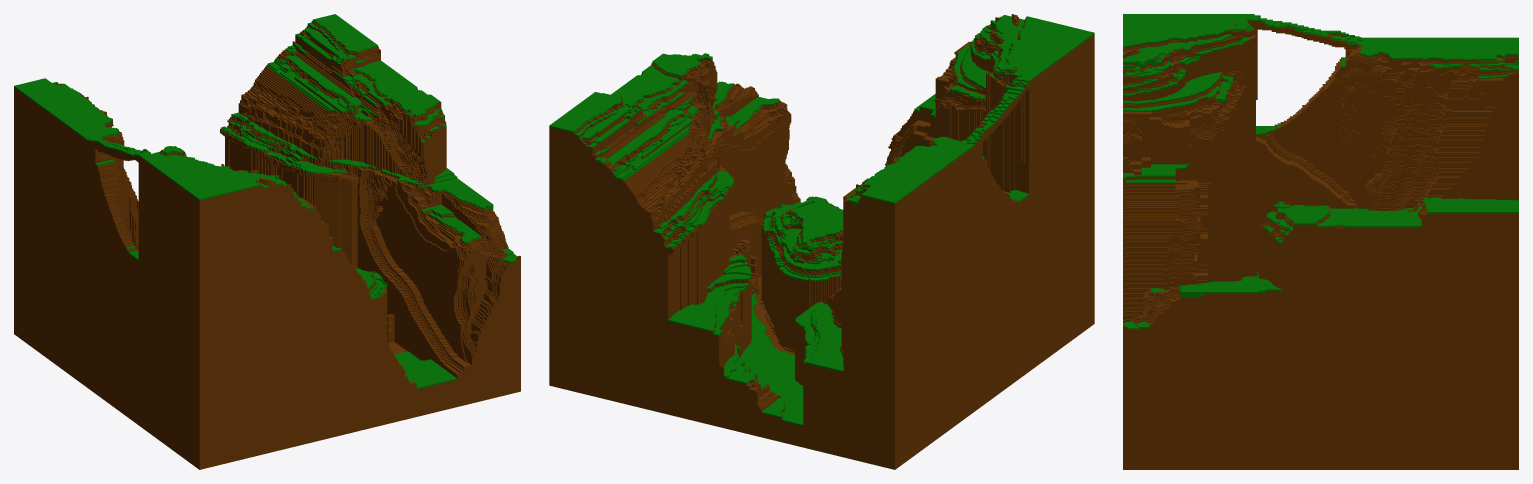
File: map2.glb
3 renders of one model, left to right at view 1: azimuth 30°, elevation 25°; view 2: azimuth 150°, elevation 25°; view 3: azimuth 270°, elevation 25°, orthographic. The views are drawn at different scales.
Parts seen in each view (by area): view 1: Node1; view 2: Node1; view 3: Node1.
Boxes of the visible parts, x1,y1,x2,y2 form: Node1: (14, 14, 520, 469); Node1: (549, 14, 1094, 469); Node1: (1123, 14, 1518, 469).
Size of the model in its own units: 25.6 by 20.8 by 25.6.
Materials: 1 (1 with a texture image).
